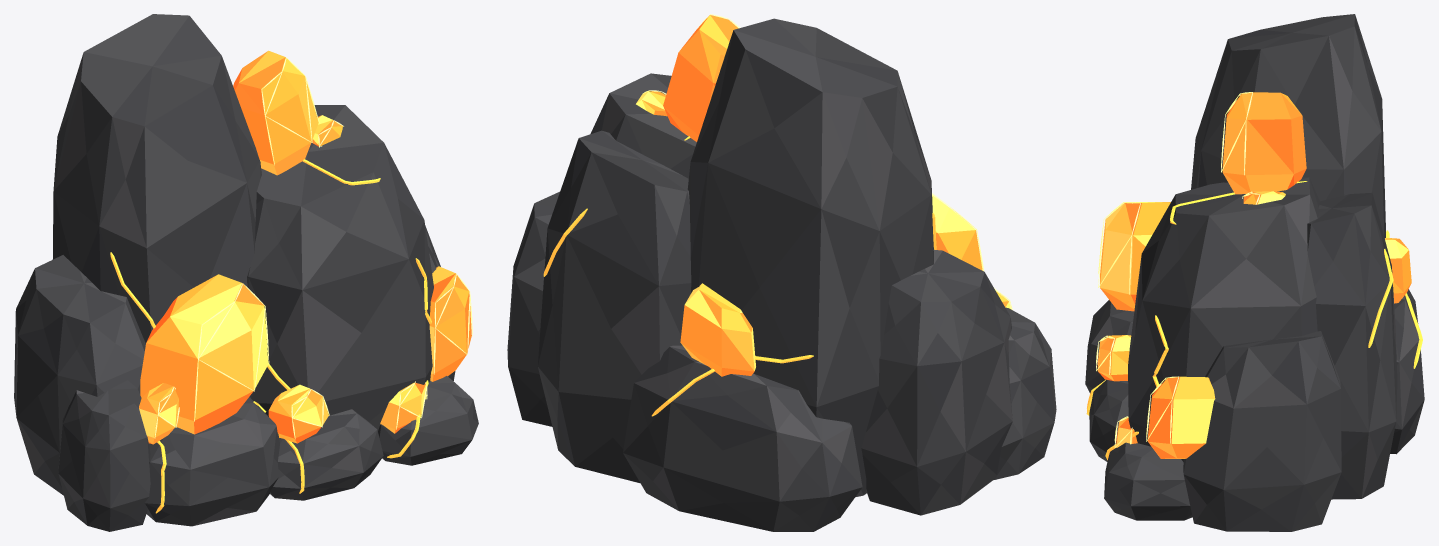
Rendered from CopperOutcropV2.glb.
3 renders of one model, left to right at view 1: azimuth 30°, elevation 25°; view 2: azimuth 150°, elevation 25°; view 3: azimuth 270°, elevation 25°, orthographic. The views are drawn at different scales.
Parts seen in each view (by area): view 1: 01 Tall rear-left basalt, 02 Main front-right basalt, 03 Left buttress, Copper / main left pocket, 05 Front-left footing, 08 Left toe, Copper / upper tooth, 06 Front-middle footing, 07 Right toe, Copper / right pocket, Copper / lower wedge, Copper / small left chip (+2 smaller); view 2: 01 Tall rear-left basalt, 09 Back shoulder, 10 Back footing, 03 Left buttress, 04 Far right support, 08 Left toe, 02 Main front-right basalt, Copper / rear pocket, Copper / upper tooth, Copper / main left pocket; view 3: 02 Main front-right basalt, 04 Far right support, 01 Tall rear-left basalt, 09 Back shoulder, Copper / upper tooth, 07 Right toe, Copper / right pocket, Copper / main left pocket, 10 Back footing, 06 Front-middle footing, 05 Front-left footing, Copper / lower wedge (+3 smaller).
Boxes of the visible parts, left/top/right/bottom form: 01 Tall rear-left basalt: left=52, top=14, right=261, bottom=343; 02 Main front-right basalt: left=247, top=105, right=433, bottom=430; 03 Left buttress: left=14, top=255, right=145, bottom=495; Copper / main left pocket: left=140, top=274, right=268, bottom=434; 05 Front-left footing: left=145, top=397, right=279, bottom=526; 08 Left toe: left=58, top=380, right=151, bottom=531; Copper / upper tooth: left=233, top=50, right=318, bottom=175; 06 Front-middle footing: left=270, top=409, right=383, bottom=500; 07 Right toe: left=378, top=376, right=478, bottom=465; Copper / right pocket: left=429, top=266, right=471, bottom=381; Copper / lower wedge: left=268, top=384, right=328, bottom=443; Copper / small left chip: left=139, top=383, right=178, bottom=444; 01 Tall rear-left basalt: left=687, top=18, right=933, bottom=497; 09 Back shoulder: left=537, top=130, right=691, bottom=482; 10 Back footing: left=623, top=345, right=862, bottom=531; 03 Left buttress: left=861, top=249, right=1012, bottom=515; 04 Far right support: left=507, top=191, right=559, bottom=426; 08 Left toe: left=994, top=307, right=1056, bottom=479; 02 Main front-right basalt: left=590, top=73, right=696, bottom=178; Copper / rear pocket: left=680, top=283, right=755, bottom=376; Copper / upper tooth: left=663, top=15, right=738, bottom=141; Copper / main left pocket: left=932, top=195, right=982, bottom=270; 02 Main front-right basalt: left=1128, top=177, right=1319, bottom=462; 04 Far right support: left=1183, top=331, right=1341, bottom=531; 01 Tall rear-left basalt: left=1191, top=14, right=1385, bottom=238; 09 Back shoulder: left=1307, top=192, right=1397, bottom=499; Copper / upper tooth: left=1222, top=92, right=1306, bottom=194; 07 Right toe: left=1104, top=442, right=1192, bottom=520; Copper / right pocket: left=1147, top=376, right=1215, bottom=458; Copper / main left pocket: left=1100, top=202, right=1170, bottom=311; 10 Back footing: left=1390, top=289, right=1424, bottom=454; 06 Front-middle footing: left=1089, top=379, right=1128, bottom=461; 05 Front-left footing: left=1085, top=300, right=1134, bottom=393; Copper / lower wedge: left=1097, top=335, right=1131, bottom=381.
Bounding box in the file's own units: 4.85 × 4.5 × 3.49.
